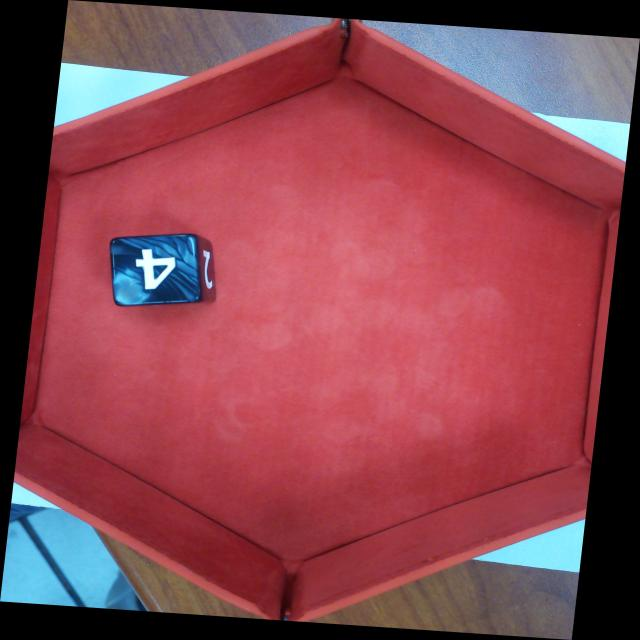dice: (106, 230, 204, 306)
